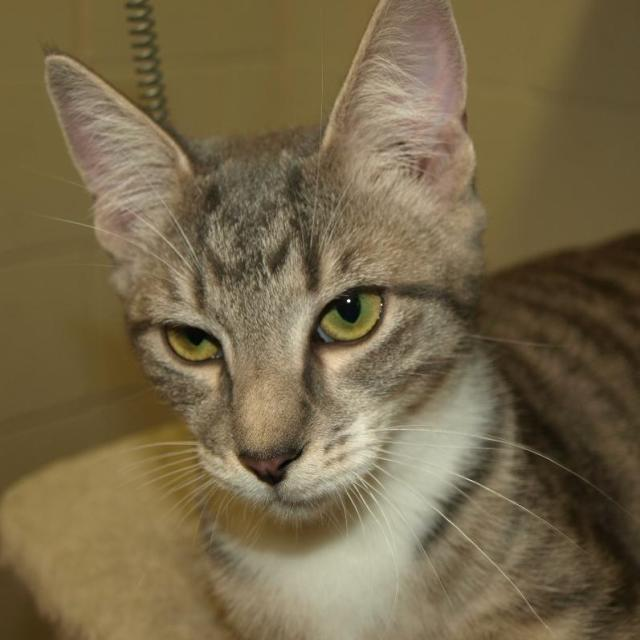Cat: (16, 0, 638, 639)
